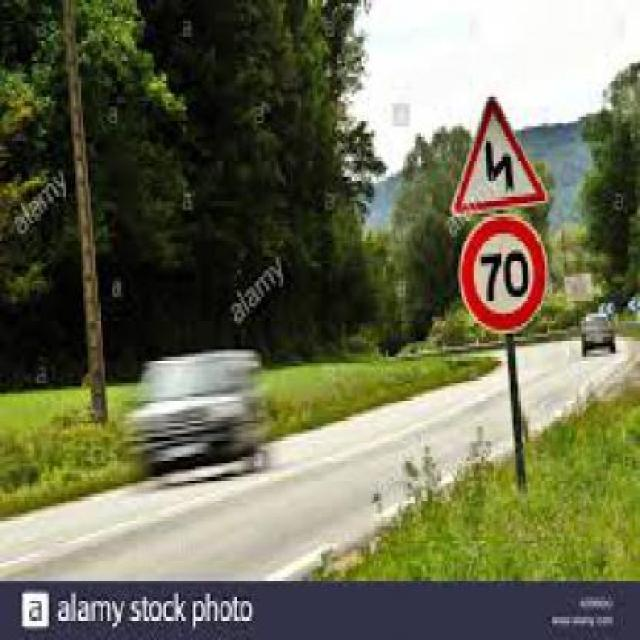forb_speed_over_70: (459, 213, 550, 341)
warn_double_curve: (447, 93, 547, 210)
